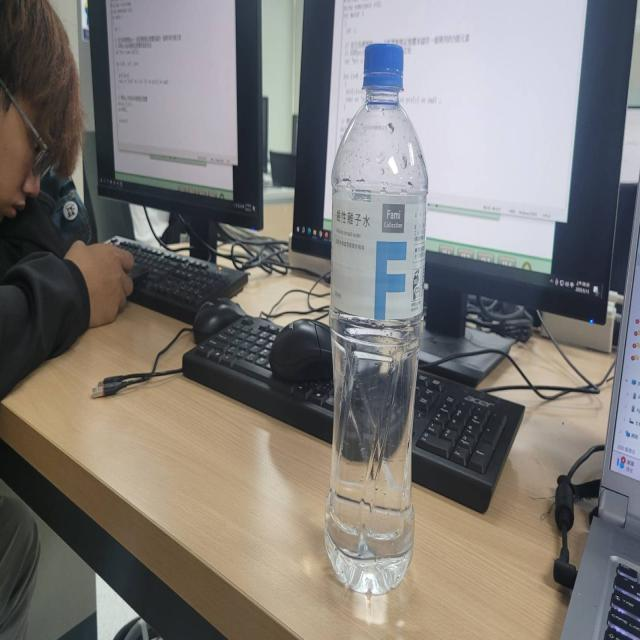PET bottle: (331, 19, 423, 598)
